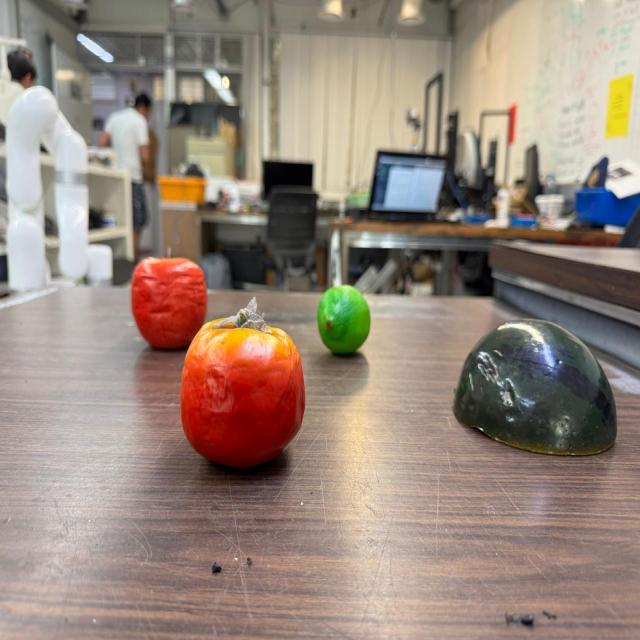apple: (130, 255, 208, 349)
lemon: (317, 285, 372, 355)
tomato: (180, 304, 306, 468)
watermelon: (449, 319, 614, 456)
